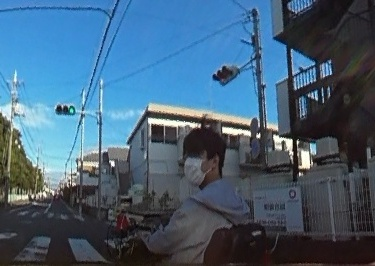person: (150, 130, 255, 266)
